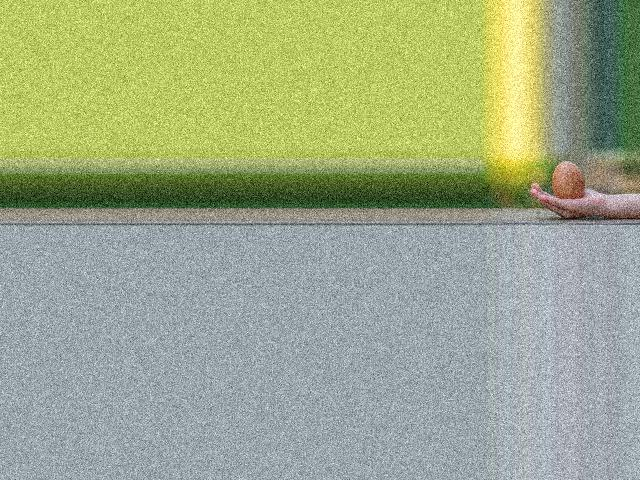egg: (552, 161, 586, 199)
